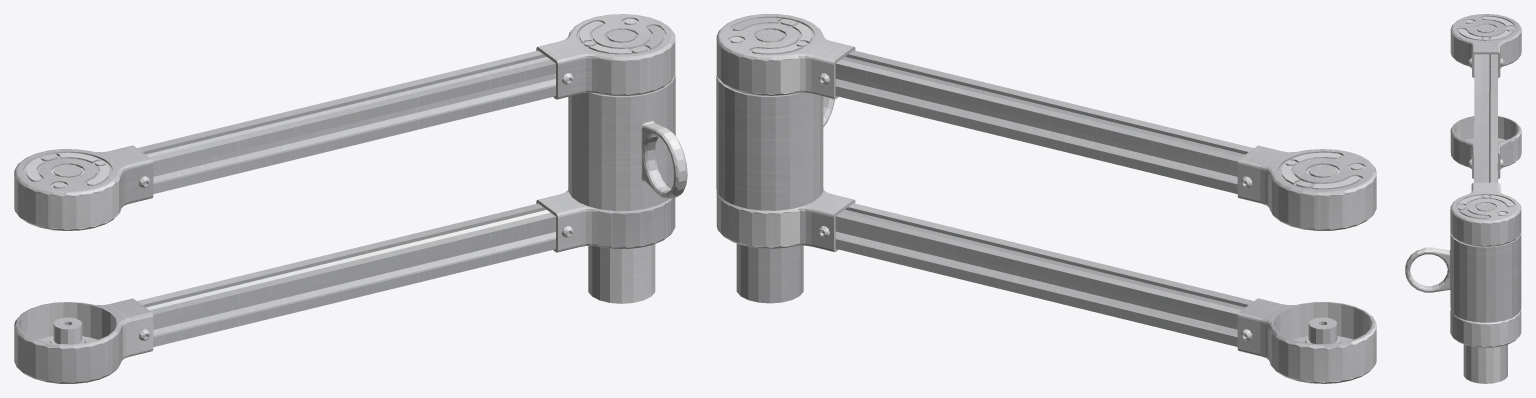
File: lower_arm_tex.dae
3 renders of one model, left to right at view 1: azimuth 30°, elevation 25°; view 2: azimuth 150°, elevation 25°; view 3: azimuth 270°, elevation 25°, orthographic. The views are drawn at different scales.
Parts seen in each view (by area): view 1: Lower_Arm; view 2: Lower_Arm; view 3: Lower_Arm.
Part boxes in pixels (bbox=[...]): Lower_Arm: bbox=[14, 14, 687, 383]; Lower_Arm: bbox=[716, 14, 1376, 383]; Lower_Arm: bbox=[1405, 14, 1521, 383].
Bounding box in the file's own units: 0.2079 × 0.049 × 0.078.
Materials: 1 (1 with a texture image).
